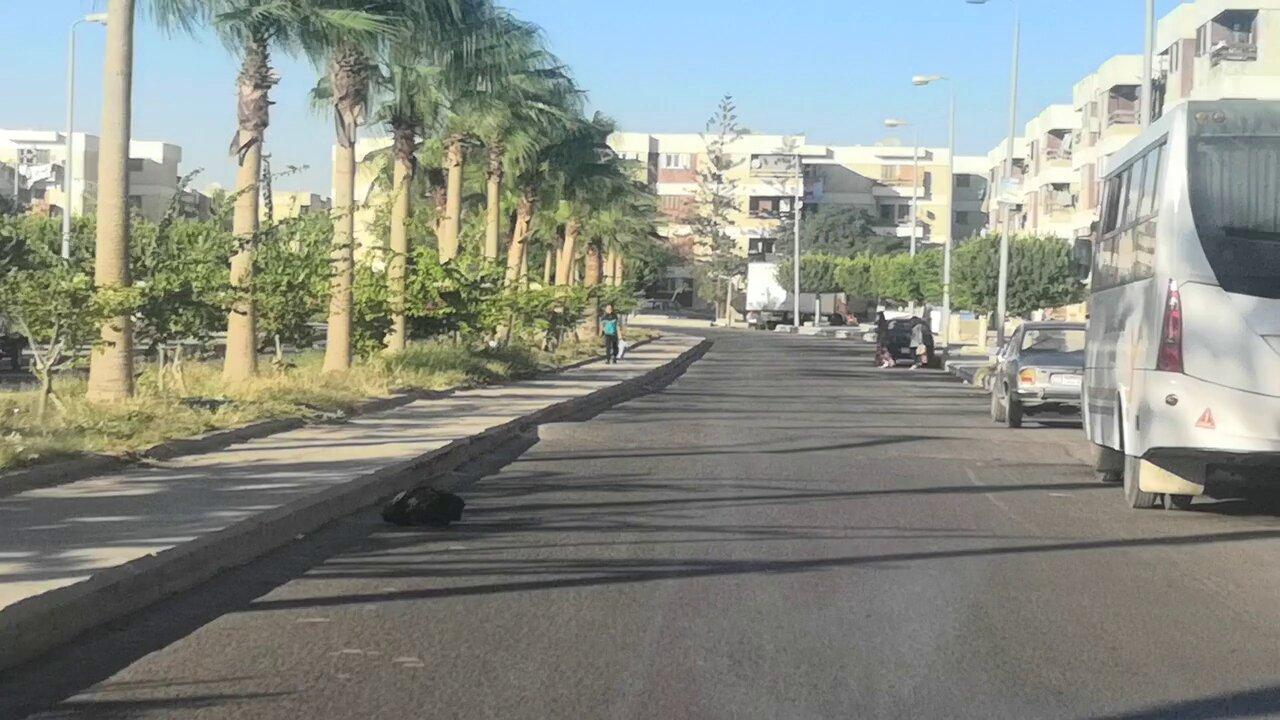Bump: (517, 425, 1096, 468)
